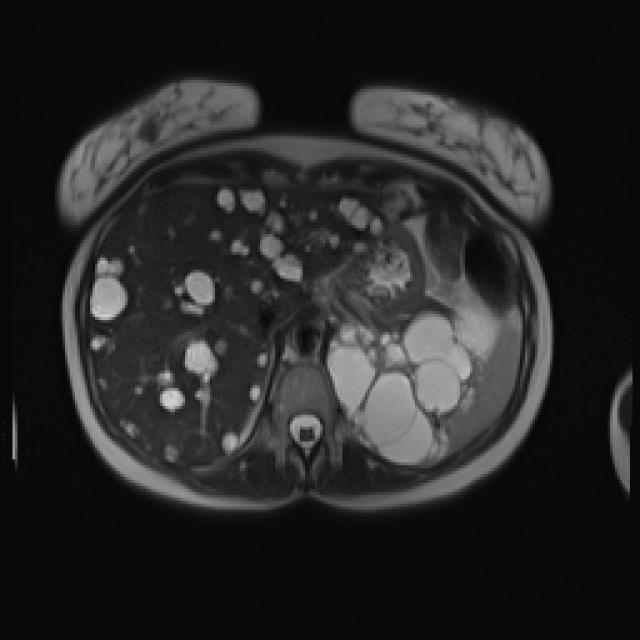sol: (327, 310, 472, 465)
